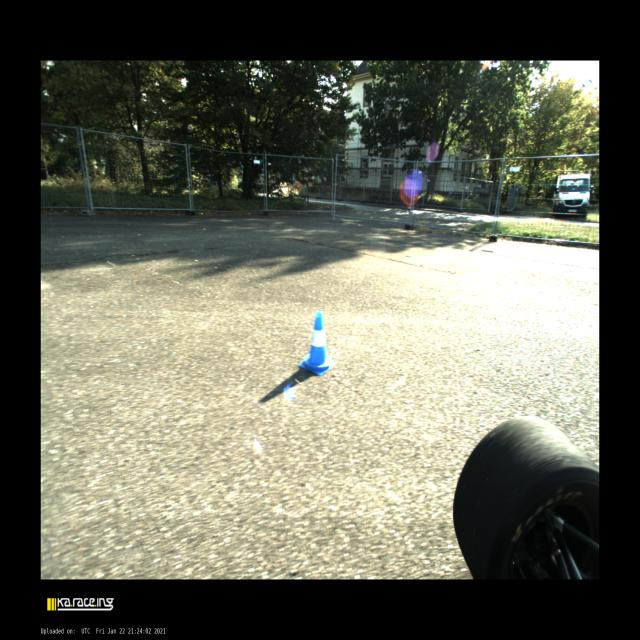blue_cone: (298, 311, 336, 375)
